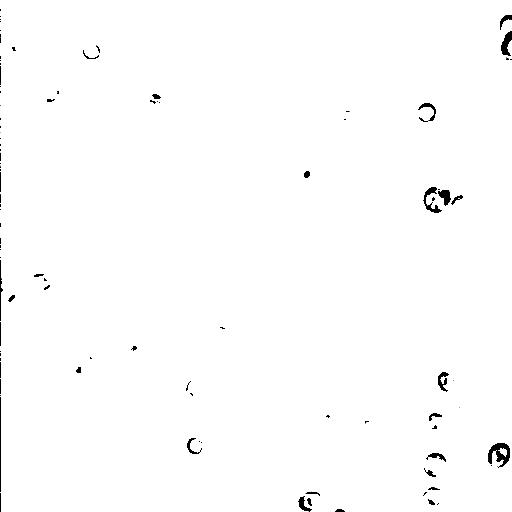micro-algae: (54, 425, 121, 491), (376, 15, 415, 57), (432, 173, 471, 214), (179, 257, 215, 292), (346, 409, 383, 441), (37, 79, 65, 111), (423, 183, 452, 213), (185, 373, 213, 402), (120, 339, 151, 365), (289, 160, 320, 186), (421, 451, 449, 478), (486, 441, 512, 469), (67, 355, 91, 384), (169, 314, 198, 338), (335, 102, 361, 128), (6, 33, 34, 57), (2, 289, 27, 315), (421, 485, 447, 509), (297, 489, 325, 511), (27, 272, 53, 293), (299, 99, 321, 123), (436, 372, 457, 393), (417, 102, 437, 123), (499, 31, 511, 65), (426, 411, 445, 431), (187, 435, 205, 456), (82, 42, 101, 61), (499, 11, 512, 38), (451, 195, 465, 211), (216, 0, 242, 8), (334, 506, 348, 512)
